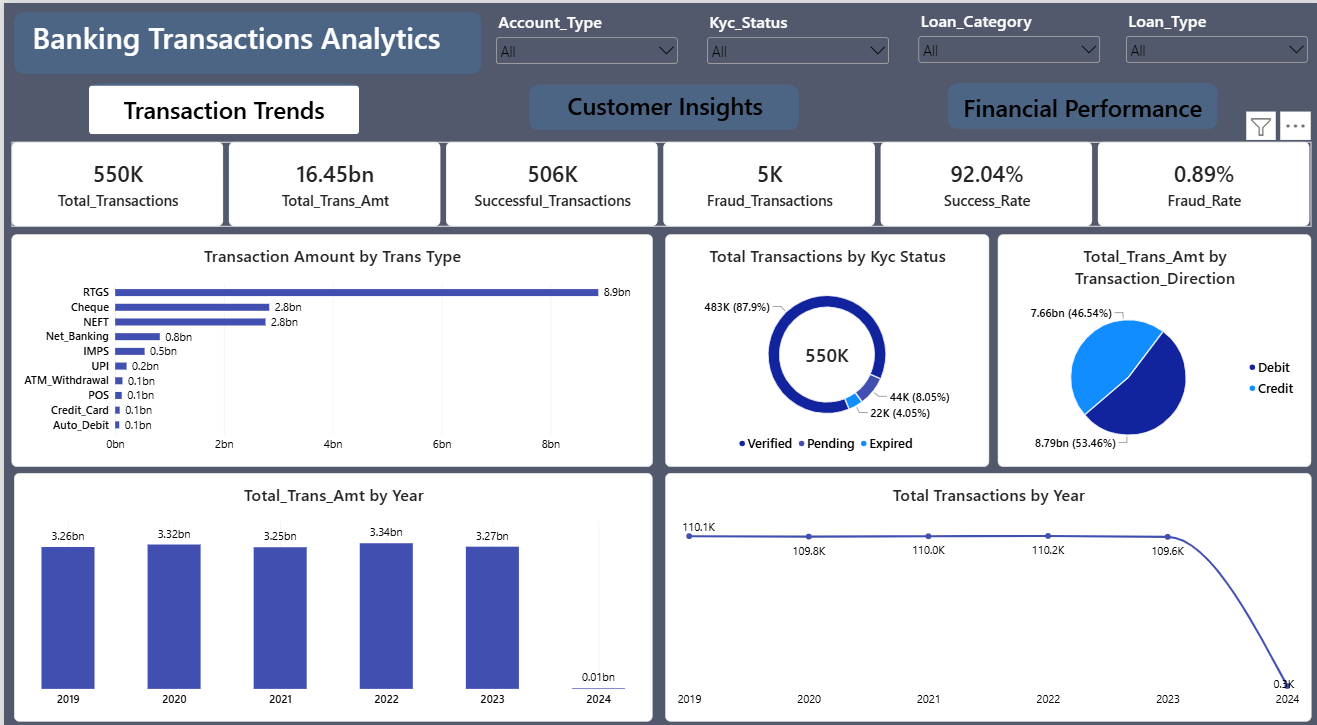

The dashboard page shown, as its layout file describes it:
{"tool":"powerbi","page":{"name":"Transaction Trends","canvas":[1920,1060],"ordinal":0},"visuals":[{"type":"shape","box":[14.5,12.7,680,90.9],"z":0},{"type":"textbox","box":[14.5,20,647.3,76.4],"z":1000},{"type":"cardVisual","fields":{"Data":["banking_transactions bank.Total_Transactions","banking_transactions bank.Total_Trans_Amt","banking_transactions bank.Successful_Transactions","banking_transactions bank.Fraud_Transactions","banking_transactions bank.Success_Rate","banking_transactions bank.Fraud_Rate"]},"box":[10.9,201.8,1890.9,123.6],"z":2000},{"type":"shape","box":[123.6,116.4,392.7,67.3],"z":3000},{"type":"textbox","box":[74.5,121.8,461.8,63.6],"z":4000},{"type":"shape","box":[1372.7,116.4,392.7,67.3],"z":5000},{"type":"shape","box":[763.7,118.2,392.7,67.3],"z":5000,"group":"g1"},{"type":"textbox","box":[725.5,125.5,461.8,63.6],"z":6000,"group":"g1"},{"type":"textbox","box":[1338.2,125.5,461.8,63.6],"z":6000},{"type":"slicer","fields":{"Values":["banking_transactions bank.Account_Type"]},"box":[710.9,10.9,273.8,88.1],"z":7000},{"type":"slicer","fields":{"Values":["banking_transactions bank.Loan_Category"]},"box":[1325.5,9.1,273.8,88.1],"z":8000},{"type":"slicer","fields":{"Values":["banking_transactions bank.Kyc_Status"]},"box":[1018.2,10.9,273.8,88.1],"z":9000},{"type":"slicer","fields":{"Values":["banking_transactions bank.Loan_Type"]},"box":[1627.3,9.1,273.8,88.1],"z":10000},{"type":"group","id":"g1","title":"Group 1","box":[725.5,118.2,461.8,70.9],"z":11000},{"type":"lineChart","title":"Total Transactions by Year","fields":{"Category":["banking_transactions bank.Year"],"Y":["banking_transactions bank.Total_Transactions"]},"box":[961.8,683.6,940,361.8],"z":12000},{"type":"clusteredColumnChart","fields":{"Category":["banking_transactions bank.Transaction_Date.Variation.Date Hierarchy.Year"],"Y":["banking_transactions bank.Total_Trans_Amt"]},"box":[14.5,683.6,929.1,361.8],"z":13000},{"type":"clusteredBarChart","title":"Transaction Amount by Trans Type","fields":{"Category":["banking_transactions bank.Transaction_Type"],"Y":["banking_transactions bank.Total_Trans_Amt"]},"box":[10.9,336.4,932.7,338.2],"z":14000},{"type":"donutChart","title":"Total Transactions by Kyc Status","fields":{"Category":["banking_transactions bank.Kyc_Status"],"Y":["banking_transactions bank.Total_Transactions"]},"box":[961.8,336.4,470.9,338.2],"z":15000},{"type":"pieChart","fields":{"Category":["banking_transactions bank.Transaction_Direction"],"Y":["banking_transactions bank.Total_Trans_Amt"]},"box":[1445.5,336.4,456.4,338.2],"z":16000},{"type":"actionButton","box":[123.6,118.2,392.7,65.5],"z":16001},{"type":"actionButton","box":[760,120,392.7,65.5],"z":16002},{"type":"actionButton","box":[1372.7,118.2,392.7,65.5],"z":16003}]}

Visuals, with their boxes in screenshot pixels (x1, y1, x2, y2), scaled from the page's 1920x1060 canvas onto the 1317x725 screenshot:
shape: Rect(10, 9, 476, 71)
textbox: Rect(10, 14, 454, 66)
cardVisual - banking_transactions bank.Total_Transactions x banking_transactions bank.Total_Trans_Amt: Rect(7, 138, 1305, 223)
shape: Rect(85, 80, 354, 126)
textbox: Rect(51, 83, 368, 127)
shape: Rect(942, 80, 1211, 126)
shape: Rect(524, 81, 793, 127)
textbox: Rect(498, 86, 814, 129)
textbox: Rect(918, 86, 1235, 129)
slicer - banking_transactions bank.Account_Type: Rect(488, 7, 675, 68)
slicer - banking_transactions bank.Loan_Category: Rect(909, 6, 1097, 66)
slicer - banking_transactions bank.Kyc_Status: Rect(698, 7, 886, 68)
slicer - banking_transactions bank.Loan_Type: Rect(1116, 6, 1304, 66)
"Group 1" group: Rect(498, 81, 814, 129)
"Total Transactions by Year" lineChart: Rect(660, 468, 1305, 715)
clusteredColumnChart - banking_transactions bank.Transaction_Date.Variation.Date Hierarchy.Year x banking_transactions bank.Total_Trans_Amt: Rect(10, 468, 647, 715)
"Transaction Amount by Trans Type" clusteredBarChart: Rect(7, 230, 647, 461)
"Total Transactions by Kyc Status" donutChart: Rect(660, 230, 983, 461)
pieChart - banking_transactions bank.Transaction_Direction x banking_transactions bank.Total_Trans_Amt: Rect(992, 230, 1305, 461)
actionButton: Rect(85, 81, 354, 126)
actionButton: Rect(521, 82, 791, 127)
actionButton: Rect(942, 81, 1211, 126)
